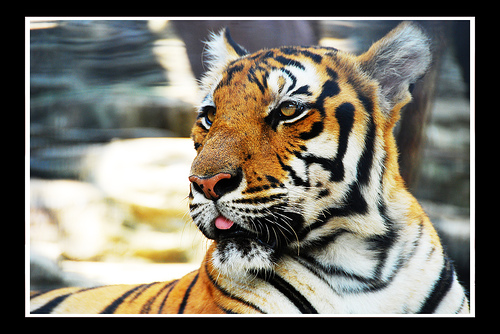Tigre: (177, 30, 452, 293)
